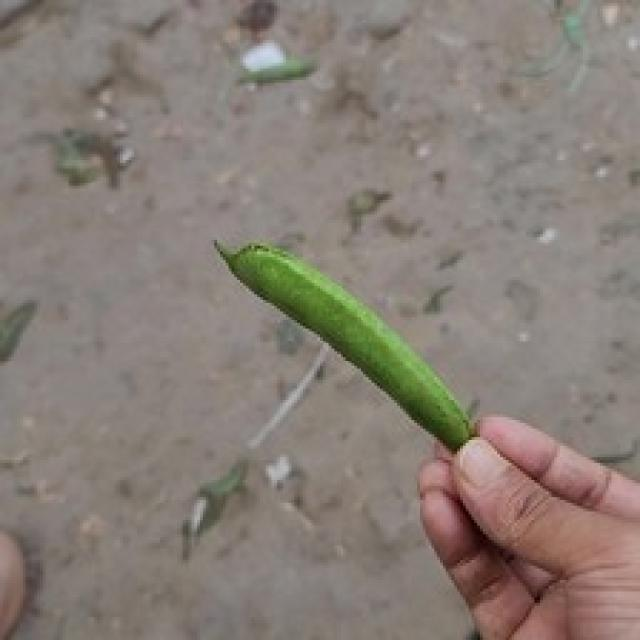Bean: (212, 234, 474, 452)
